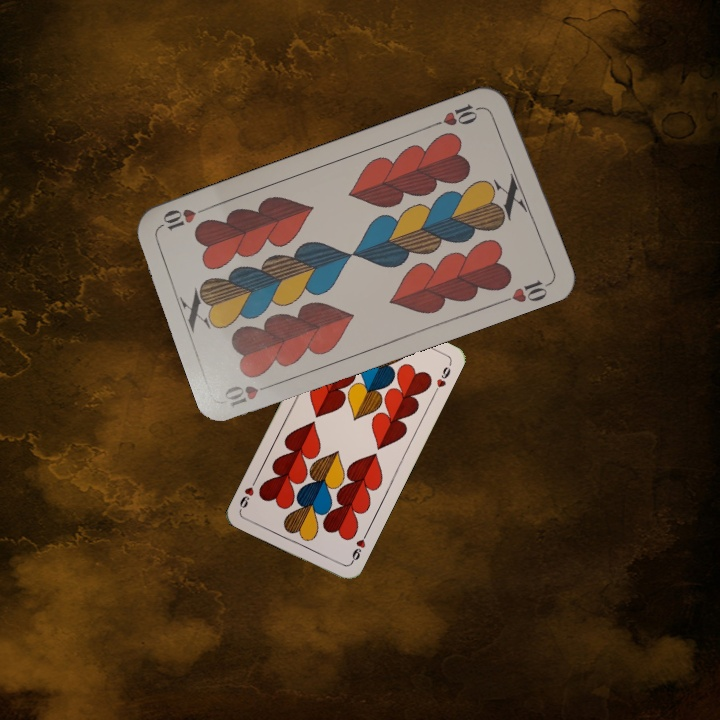H10: (220, 378, 279, 410), (429, 99, 487, 129)
H9: (346, 529, 370, 567)
